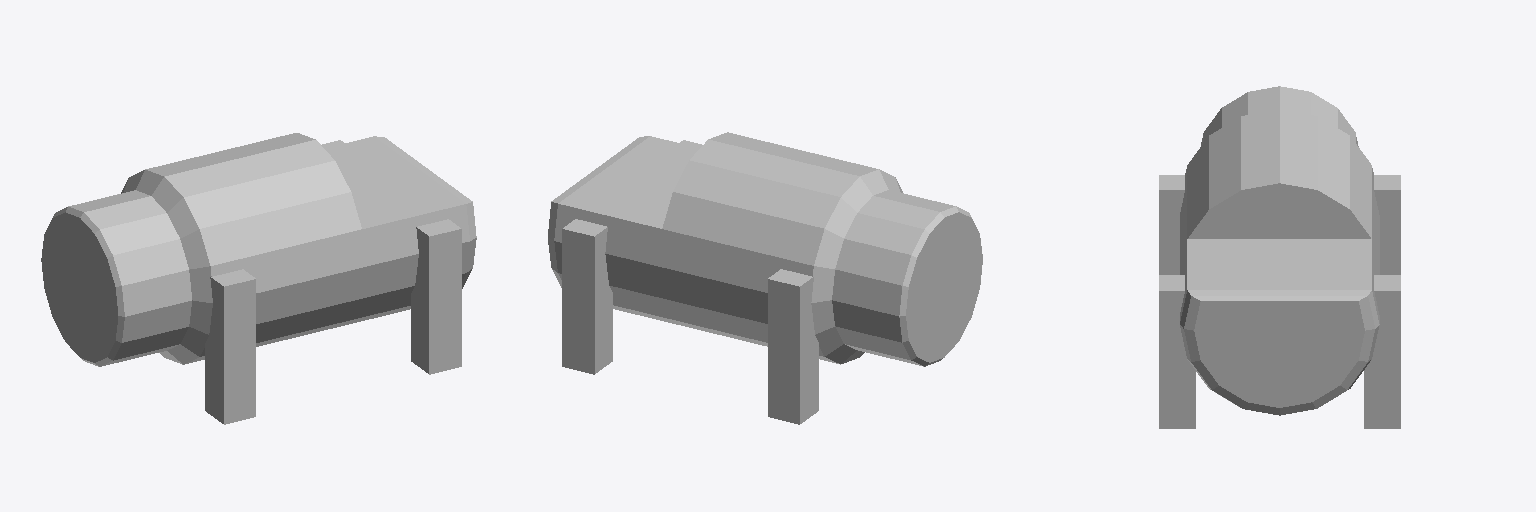
File: SienceOutMesh.obj
3 renders of one model, left to right at view 1: azimuth 30°, elevation 25°; view 2: azimuth 150°, elevation 25°; view 3: azimuth 270°, elevation 25°, orthographic.
Parts seen in each view (by area): view 1: Cylinder.049; view 2: Cylinder.049; view 3: Cylinder.049.
Part boxes in pixels (x1,y1,x2,y2): Cylinder.049: (41, 133, 476, 424); Cylinder.049: (548, 132, 982, 424); Cylinder.049: (1159, 86, 1400, 428).
Size of the model in its own units: 5.34 by 2.95 by 3.18.